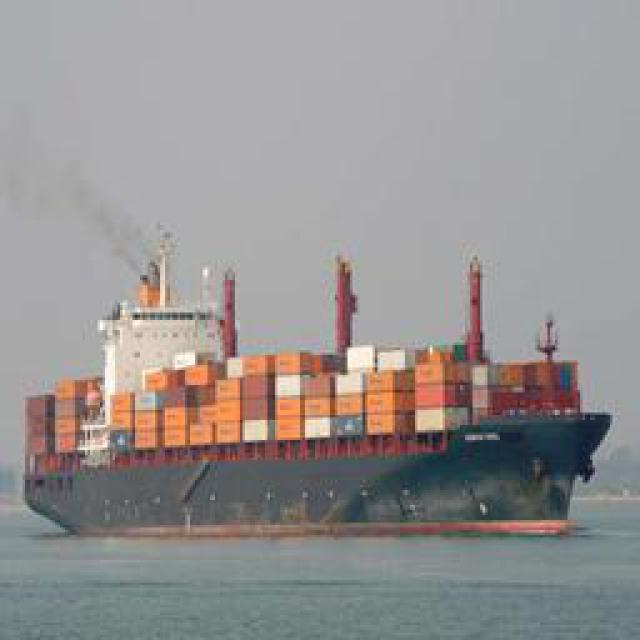Ship: (25, 239, 613, 539)
